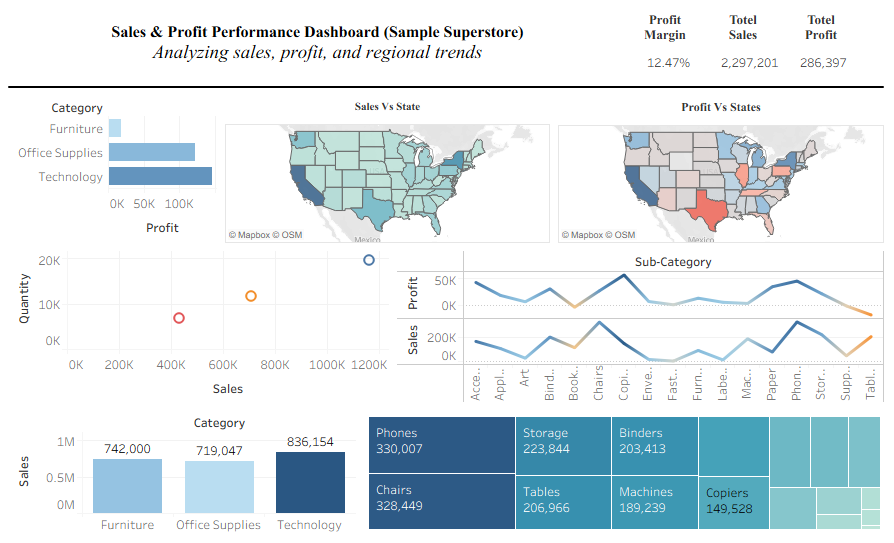

The page's visual inventory and layout, read from the dashboard file:
{"tool":"tableau","page":{"name":"Dashboard 1","canvas":[900,550],"ordinal":0},"visuals":[{"type":"title","box":[8,8,884,35]},{"type":"blank","box":[8,43,884,10]},{"type":"worksheet","title":"Categort vs profit","mark":"Pie","box":[8,53,168,184.5]},{"type":"worksheet","title":"Sales by State","mark":"Automatic","box":[176,53,358,184.5]},{"type":"worksheet","title":"Profit by State","mark":"Automatic","box":[534,53,358,184.5]},{"type":"worksheet","title":"Sub-category vs Sales & Profit","mark":"Line","rows":["Profit","Sales"],"cols":["Sub-Category"],"box":[8,237.5,884,158.2]},{"type":"worksheet","title":"Category vs sales","mark":"Automatic","rows":["Sales"],"cols":["Category"],"box":[8,395.7,442,146.3]},{"type":"worksheet","title":"Sub-Category vs Sales","mark":"Automatic","box":[450,395.7,442,146.3]}]}

Visuals, with their boxes in screenshot pixels (x1, y1, x2, y2), scaled from the page's 900x550 canvas onto the 894x543 screenshot:
title: locate(8, 8, 886, 42)
blank: locate(8, 42, 886, 52)
"Categort vs profit" worksheet (Pie marks): locate(8, 52, 175, 234)
"Sales by State" worksheet: locate(175, 52, 530, 234)
"Profit by State" worksheet: locate(530, 52, 886, 234)
"Sub-category vs Sales & Profit" worksheet (Line marks): locate(8, 234, 886, 391)
"Category vs sales" worksheet: locate(8, 391, 447, 535)
"Sub-Category vs Sales" worksheet: locate(447, 391, 886, 535)
